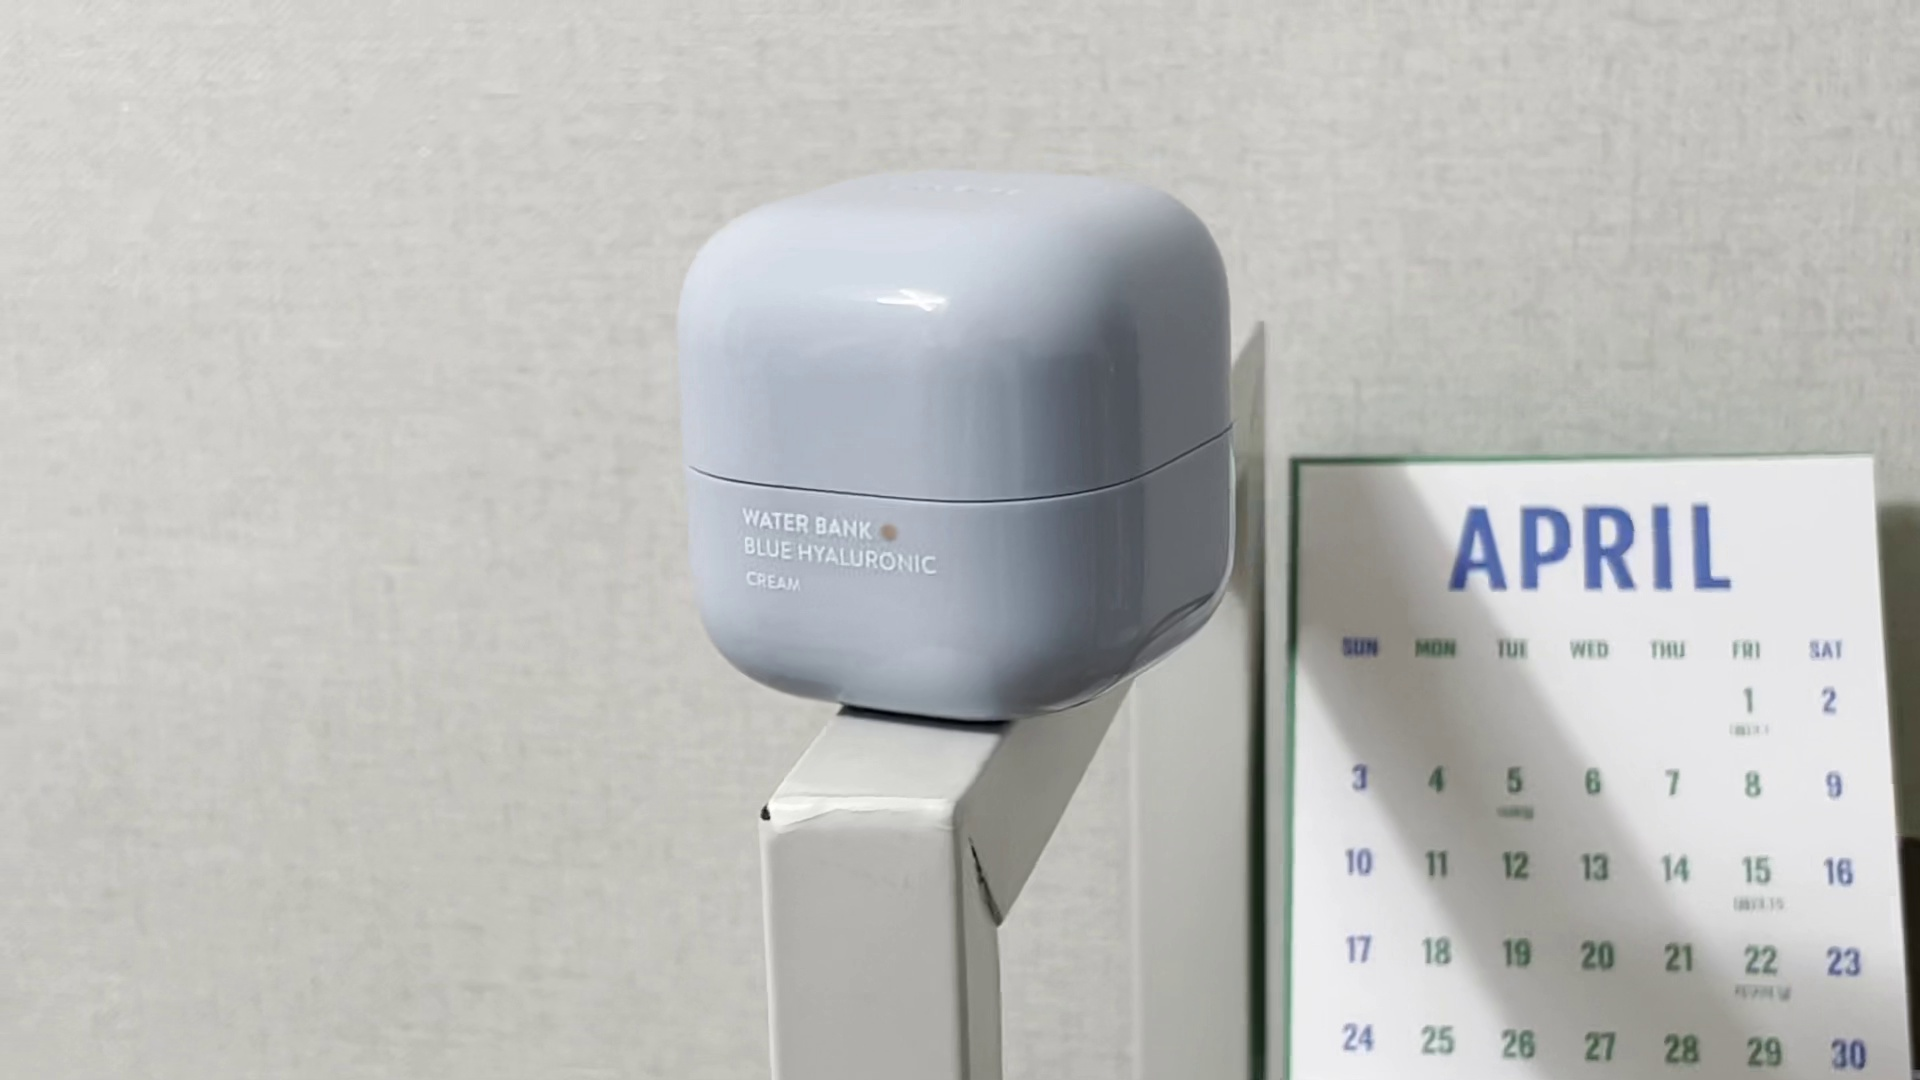cream: (671, 170, 1236, 723)
